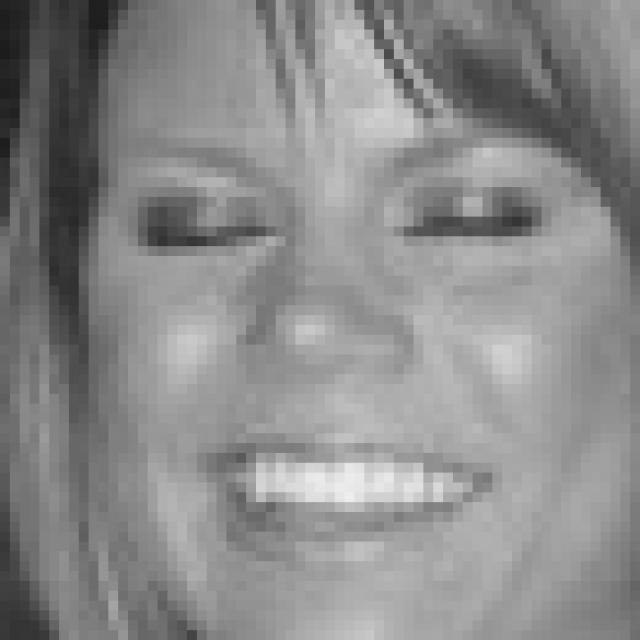real: (80, 0, 640, 638), (140, 158, 552, 268)
